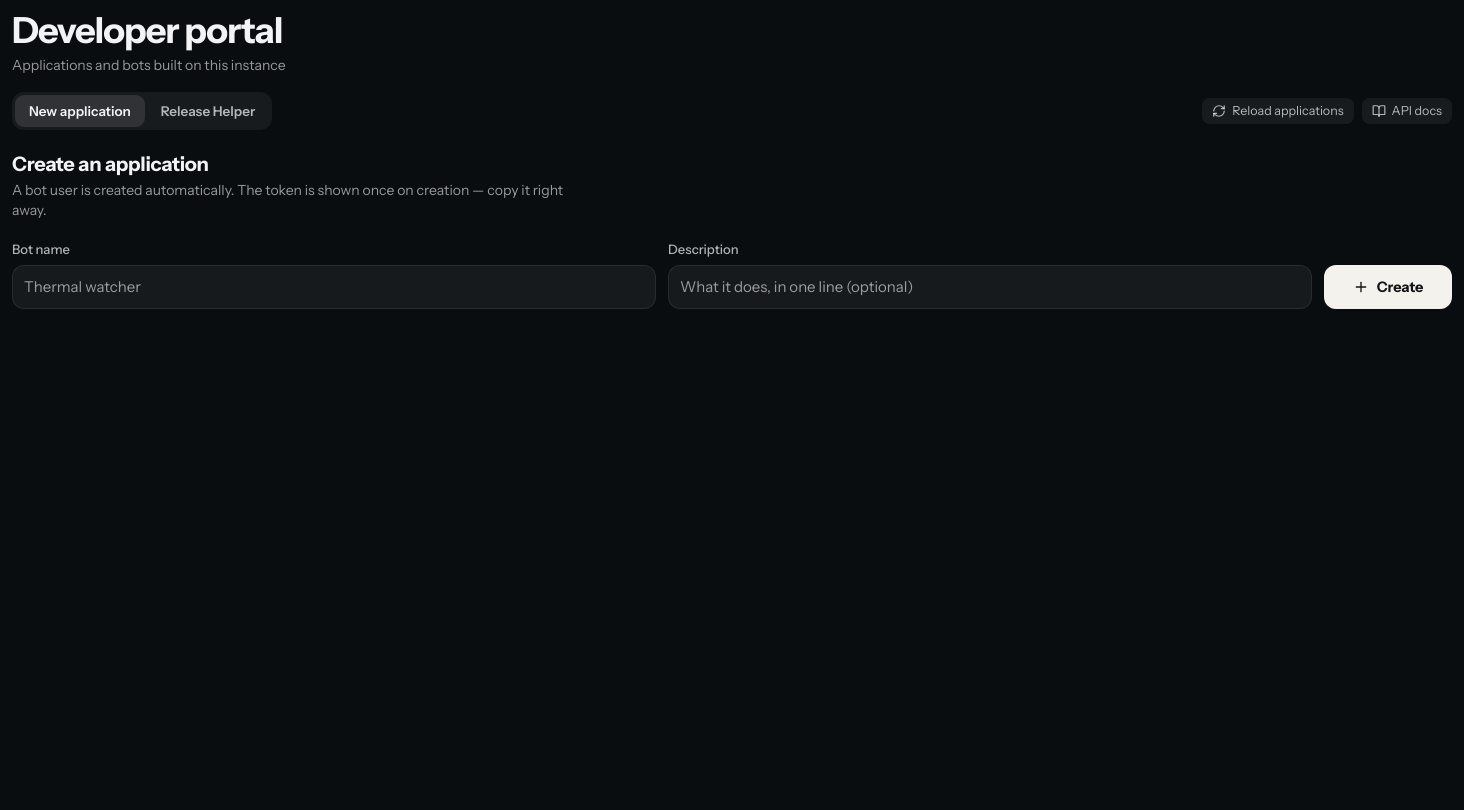
Test case: DeveloperPage metrics › loads and renders developer bot-store metrics
Click the tab "Release Helper" at (208, 111), box [147,95,269,127]
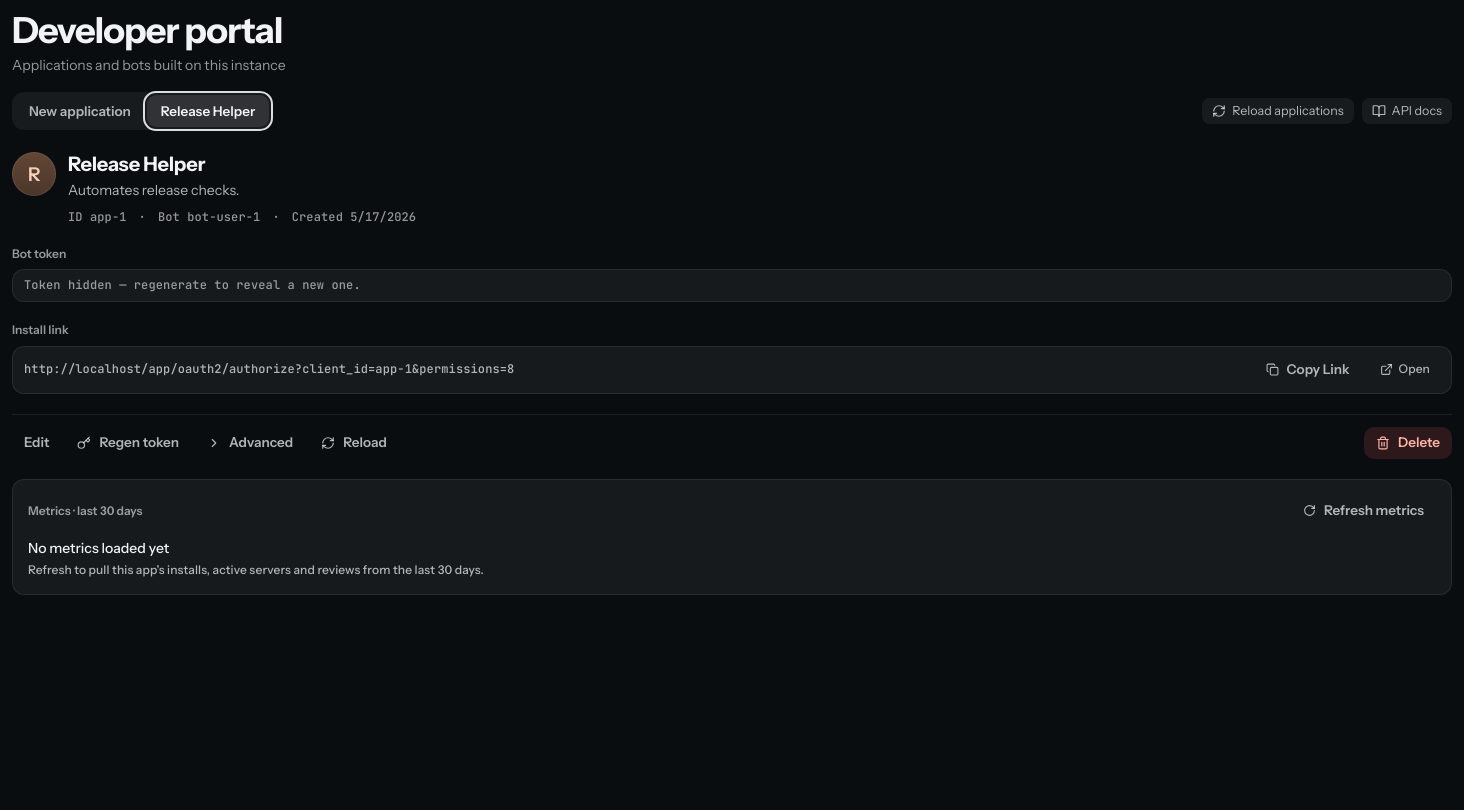
Now the text "No metrics loaded yet" is shown, box [28,539,169,557]
Click the button "Refresh metrics" at (1363, 511), box [1291,495,1436,527]
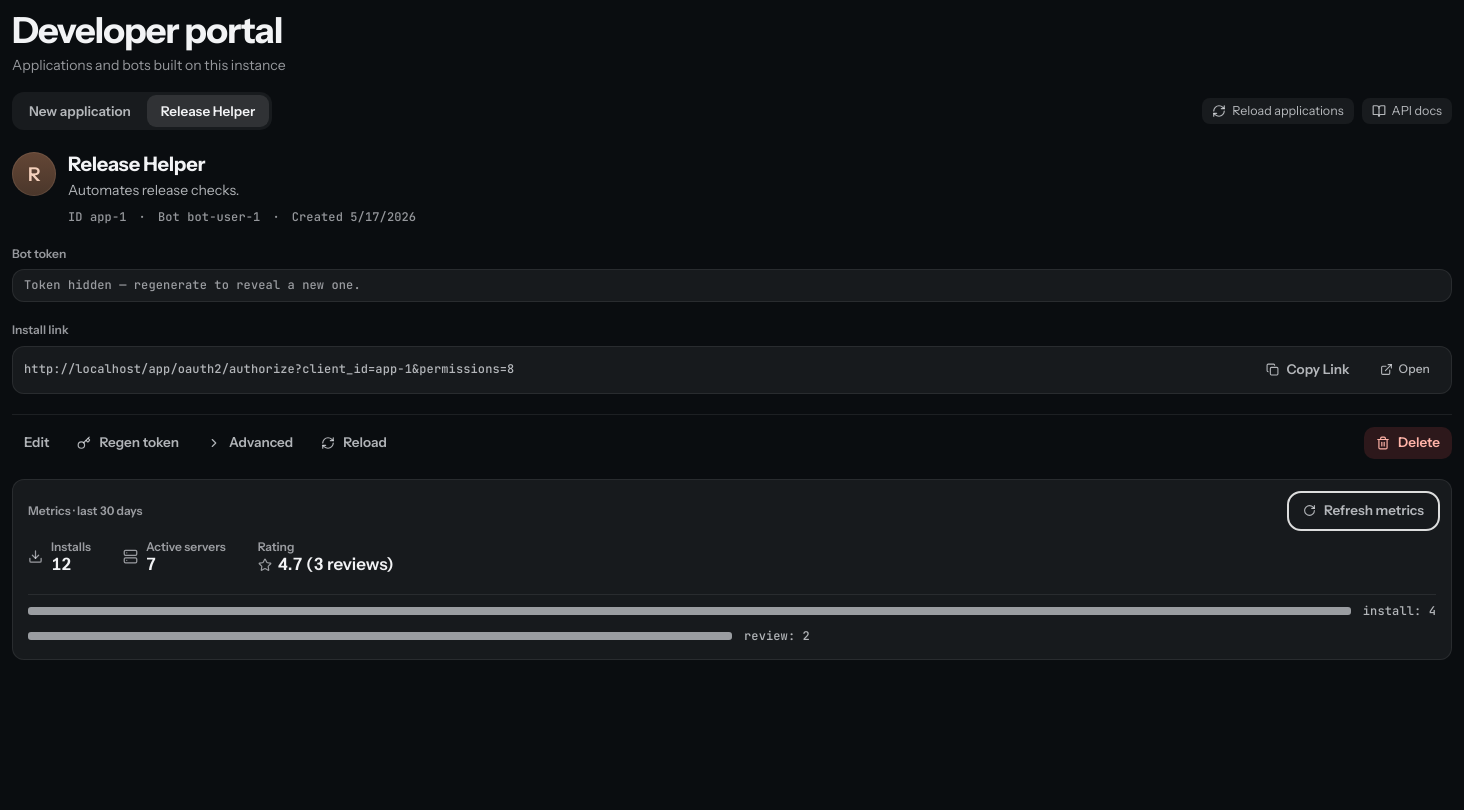
Now the text "12" is shown, box [51,554,71,574]
Now the text "7" is shown, box [146,554,156,574]
Now the text "4.7 (3 reviews)" is shown, box [258,554,394,575]
